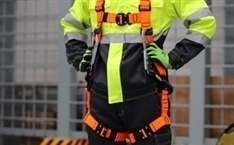safety belt: (89, 2, 171, 138)
